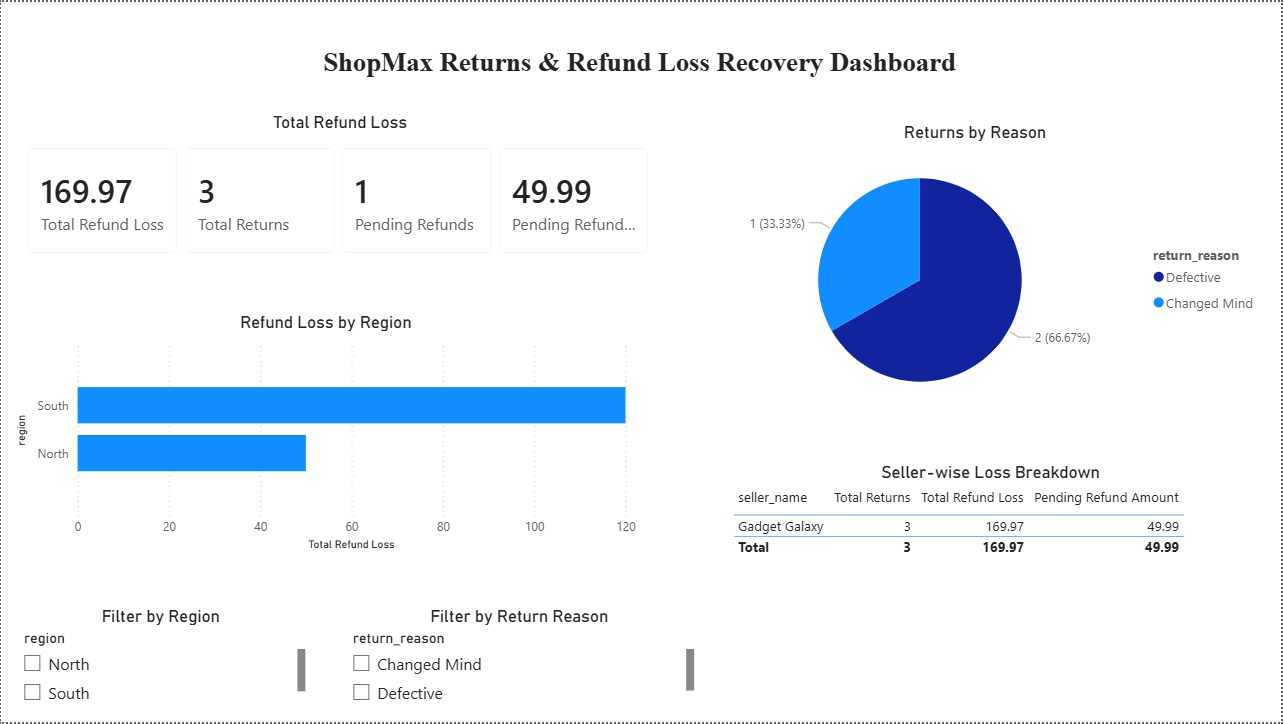

The dashboard page shown, as its layout file describes it:
{"tool":"powerbi","page":{"name":"Page 1","canvas":[1280,720],"ordinal":0},"visuals":[{"type":"cardVisual","title":"Total Refund Loss","fields":{"Data":["shopmax_returns vw_returns_analysis.Total Refund Loss","shopmax_returns vw_returns_analysis.Total Returns","shopmax_returns vw_returns_analysis.Pending Refunds","shopmax_returns vw_returns_analysis.Pending Refund Amount"]},"box":[9.8,110.1,657.9,159],"z":0},{"type":"clusteredBarChart","title":"Refund Loss by Region","fields":{"Category":["shopmax_returns vw_returns_analysis.region"],"Y":["shopmax_returns vw_returns_analysis.Total Refund Loss"]},"box":[9.8,310.6,629.8,243.3],"z":1000},{"type":"pieChart","title":"Returns by Reason","fields":{"Category":["shopmax_returns vw_returns_analysis.return_reason"],"Y":["shopmax_returns vw_returns_analysis.Total Returns"]},"box":[681.1,119.8,585.7,297.1],"z":2000},{"type":"tableEx","title":"Seller-wise Loss Breakdown","fields":{"Values":["shopmax_returns vw_returns_analysis.seller_name","shopmax_returns vw_returns_analysis.Total Returns","shopmax_returns vw_returns_analysis.Total Refund Loss","shopmax_returns vw_returns_analysis.Pending Refund Amount"]},"box":[726.5,459.9,526.5,121.1],"z":3000},{"type":"slicer","title":"Filter by Region","fields":{"Values":["shopmax_returns vw_returns_analysis.region"]},"box":[9.8,604.1,299.6,102.7],"z":3001},{"type":"slicer","title":"Filter by Return Reason","fields":{"Values":["shopmax_returns vw_returns_analysis.return_reason"]},"box":[338.8,604.1,359.2,102],"z":3002},{"type":"textbox","box":[259.2,40.4,759.4,59.9],"z":3003}]}

Visuals, with their boxes in screenshot pixels (x1, y1, x2, y2), scaled from the page's 1280x720 canvas onto the 1284x724 screenshot:
"Total Refund Loss" cardVisual: box=[10, 111, 670, 271]
"Refund Loss by Region" clusteredBarChart: box=[10, 312, 642, 557]
"Returns by Reason" pieChart: box=[683, 120, 1271, 419]
"Seller-wise Loss Breakdown" tableEx: box=[729, 462, 1257, 584]
"Filter by Region" slicer: box=[10, 607, 310, 711]
"Filter by Return Reason" slicer: box=[340, 607, 700, 710]
textbox: box=[260, 41, 1022, 101]
